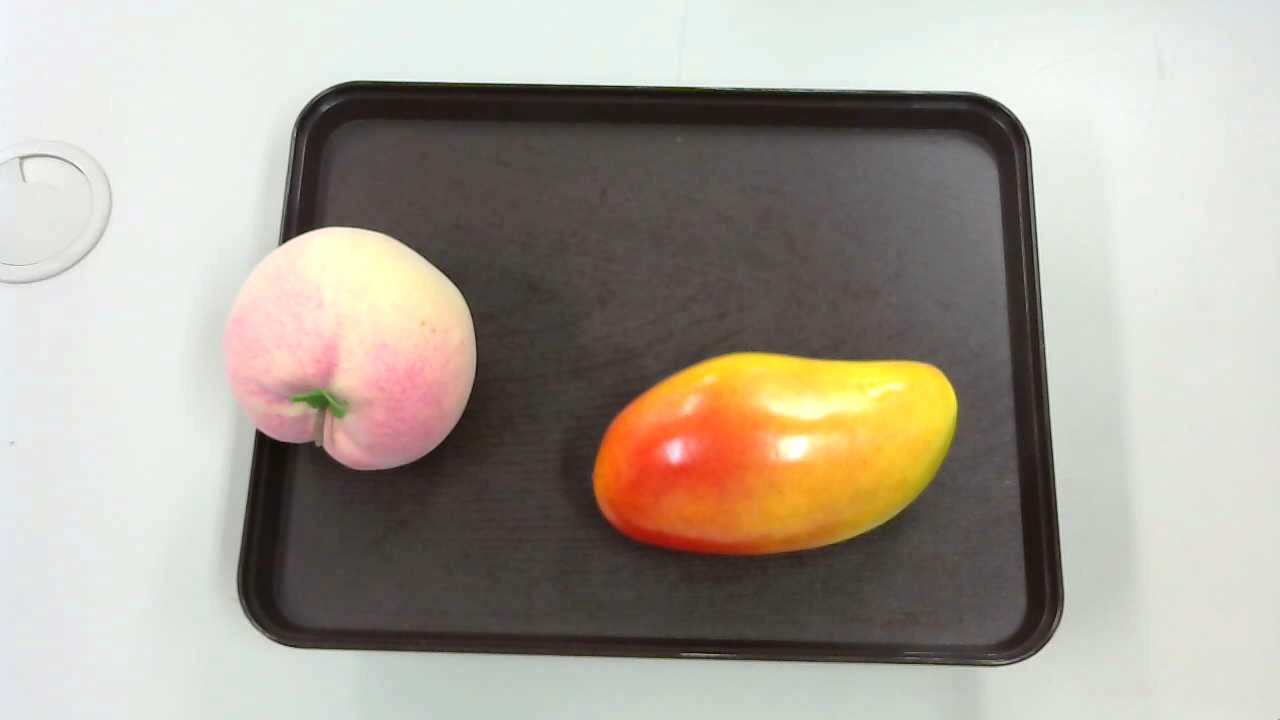peach: (219, 220, 477, 472)
red mango: (591, 355, 954, 551)
